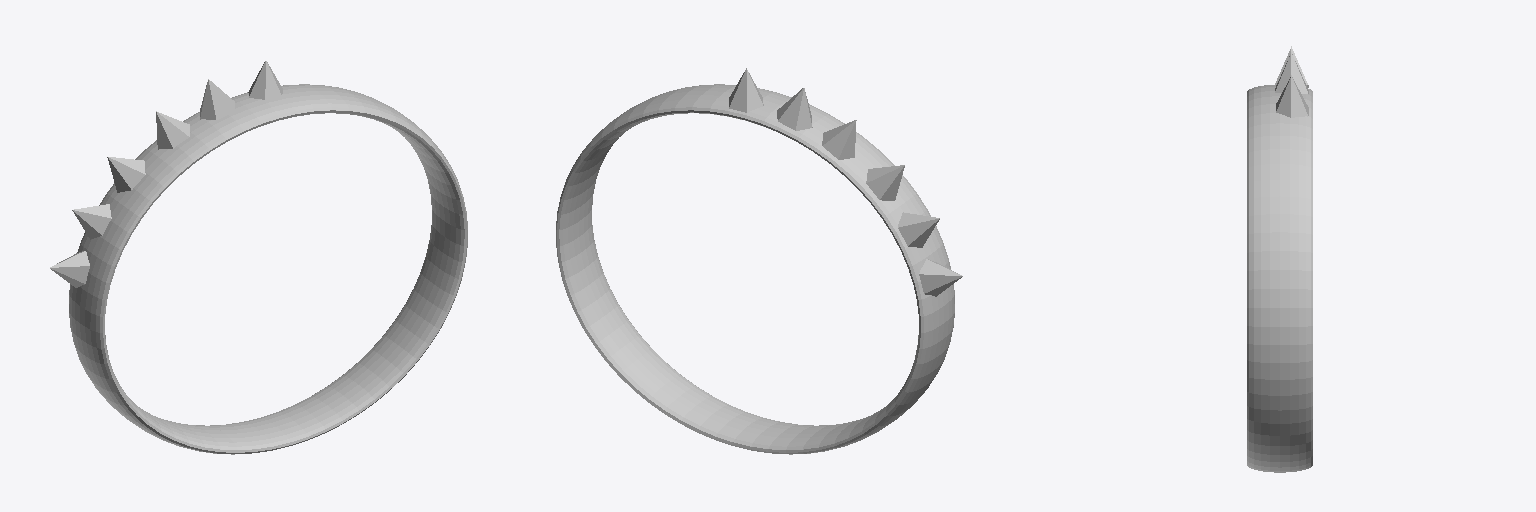
The model's file is Bracelet.obj.
3 renders of one model, left to right at view 1: azimuth 30°, elevation 25°; view 2: azimuth 150°, elevation 25°; view 3: azimuth 270°, elevation 25°, orthographic.
Visible parts, largest first — view 1: Bracelet; view 2: Bracelet; view 3: Bracelet.
Boxes of the visible parts, <box> form: Bracelet: <box>50,61,467,454</box>; Bracelet: <box>556,68,962,454</box>; Bracelet: <box>1247,46,1312,472</box>.
Size of the model in its own units: 4.4 by 3.94 by 0.6317.